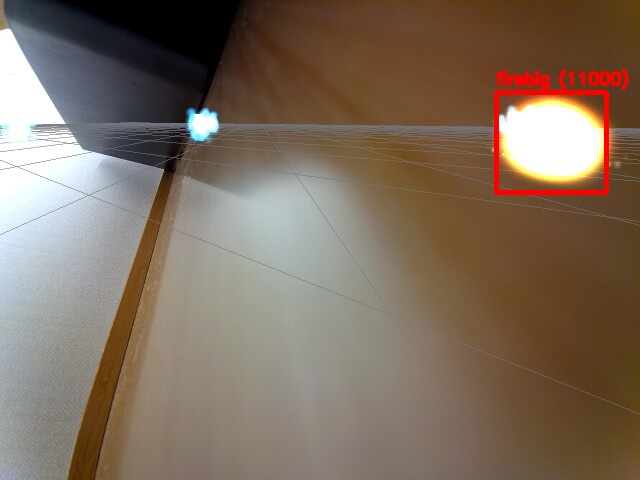firebig: (496, 92, 606, 192)
